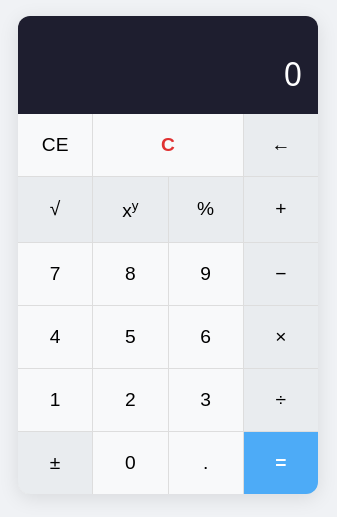
Scenario: Calculator › performs addition via API
Click the button "1" at (55, 400), box [18,368,92,430]
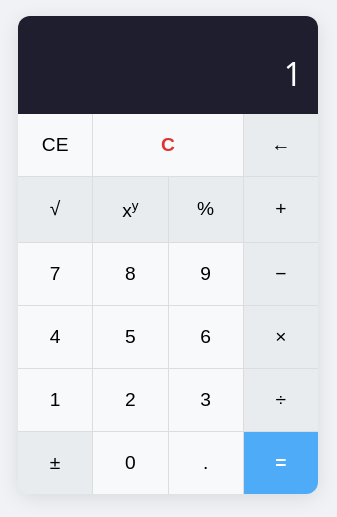
Click the button "0" at (130, 462), box [93,432,168,494]
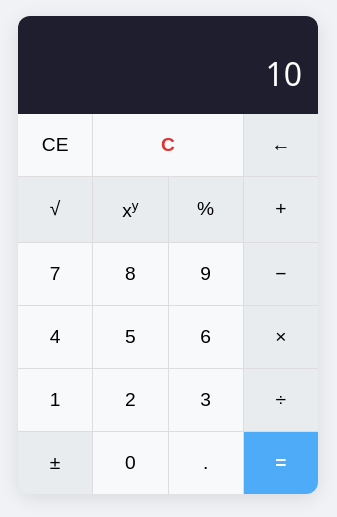
Click the button "+" at (281, 209), box [244,177,318,242]
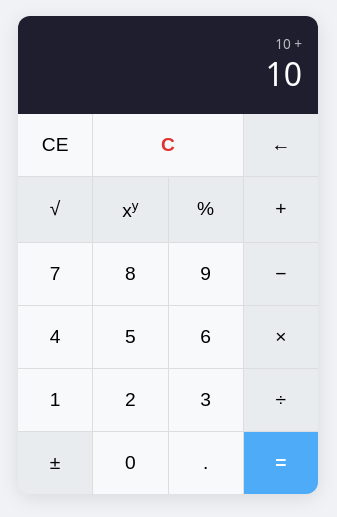
Click the button "3" at (206, 400), box [168,368,243,430]
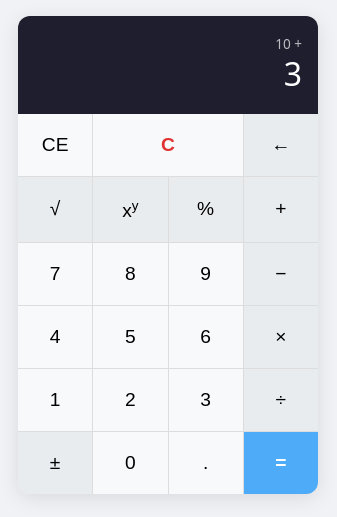
Click the button "2" at (130, 400), box [93,368,168,430]
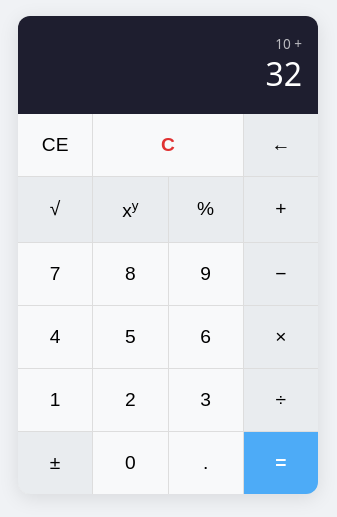
Click the button "=" at (281, 462), box [244,432,318,494]
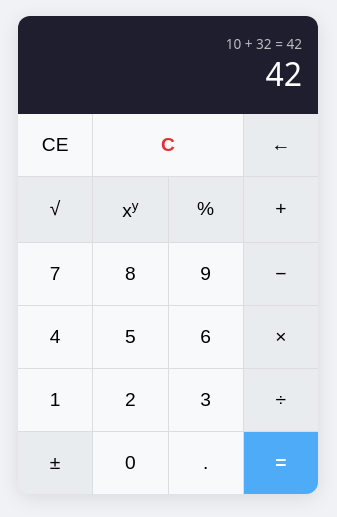
Expected: the text with test id "display" reads "42", [265,52,302,95]
